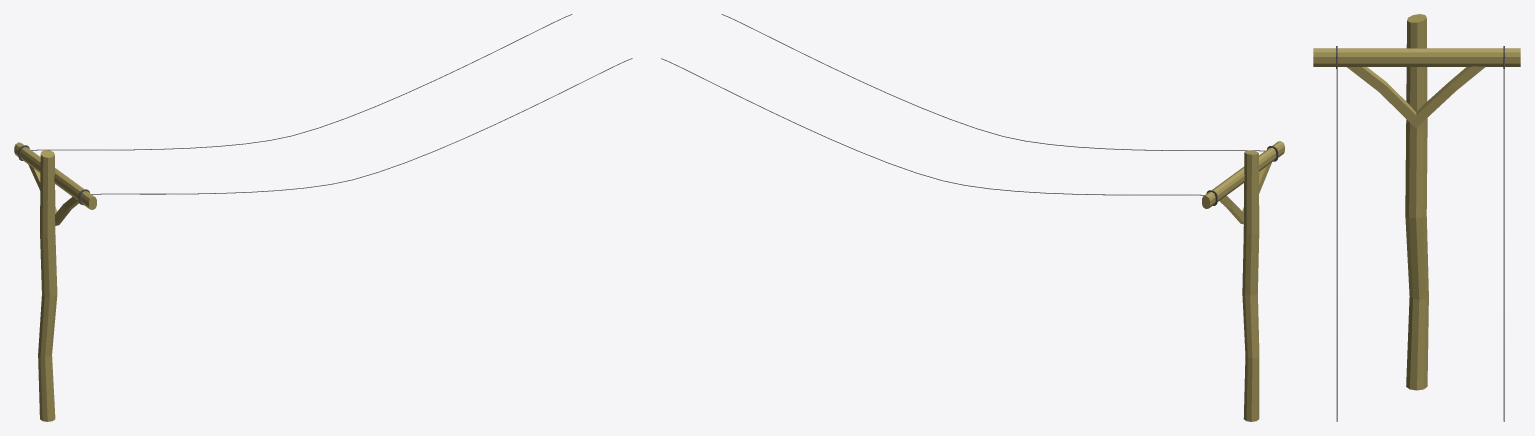
Rendered from lamppost02.fbx.
3 views of the same model, side by side, from view 1: azimuth 30°, elevation 25°; view 2: azimuth 150°, elevation 25°; view 3: azimuth 270°, elevation 25° (orthographic). The views are drawn at different scales.
Parts seen in each view (by area): view 1: Cube.010; view 2: Cube.010; view 3: Cube.010.
Boxes of the visible parts, x1,y1,x2,y2 form: Cube.010: (14,14,632,421); Cube.010: (661,14,1284,421); Cube.010: (1313,14,1520,421).
Size of the model in its own units: 9.4 by 4.24 by 2.16.
